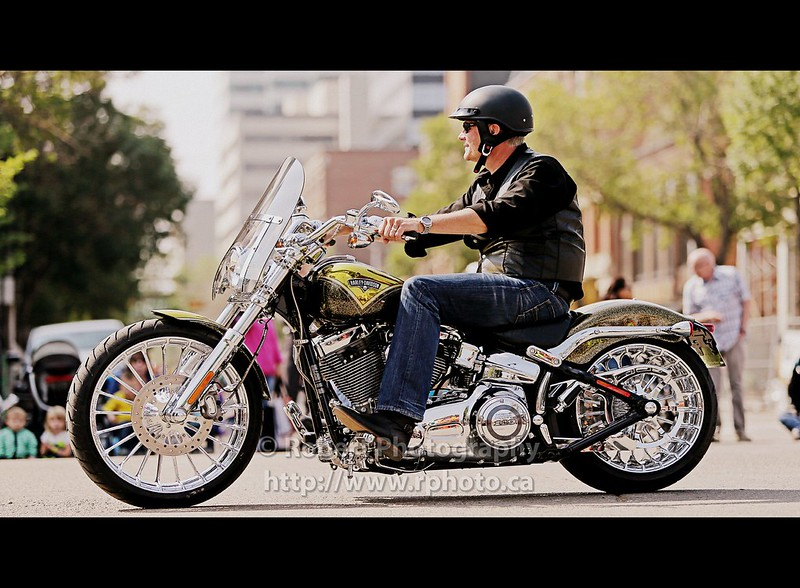helmet: (459, 78, 535, 146)
